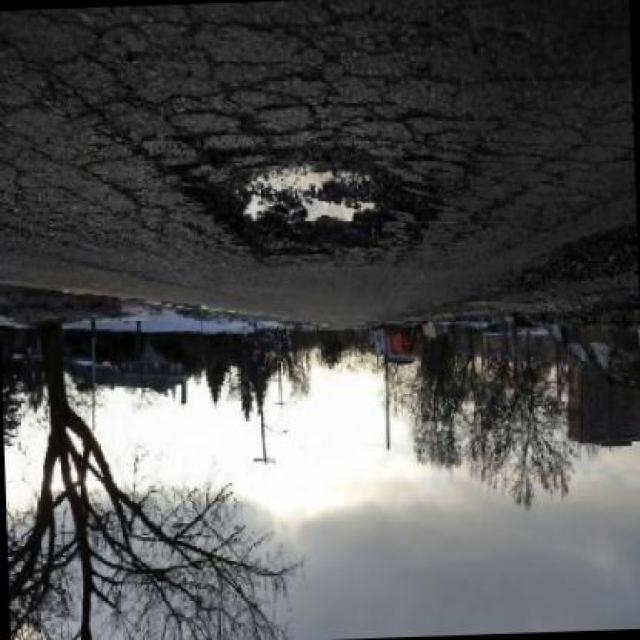pothole1: (183, 142, 414, 263)
